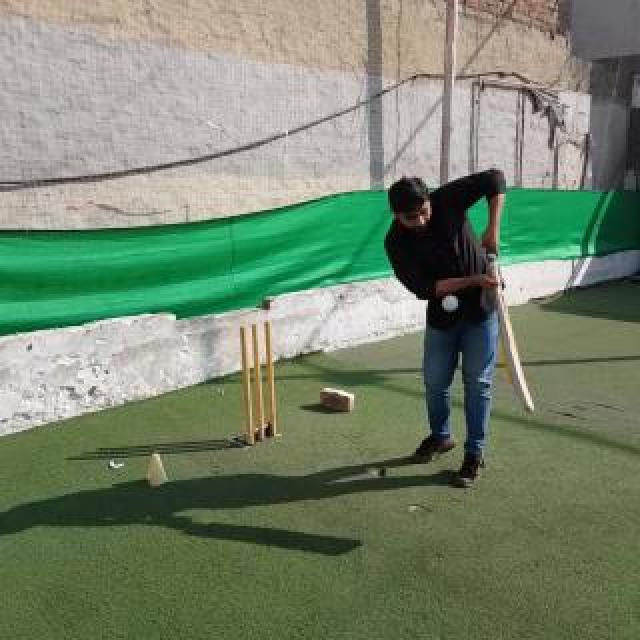ball: (442, 294, 458, 312)
bat: (486, 247, 536, 413)
